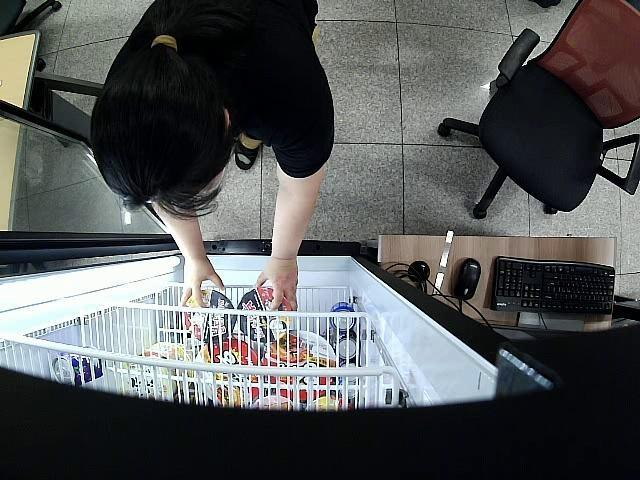07_buldak_L: (238, 288, 292, 342), (183, 291, 234, 342)
